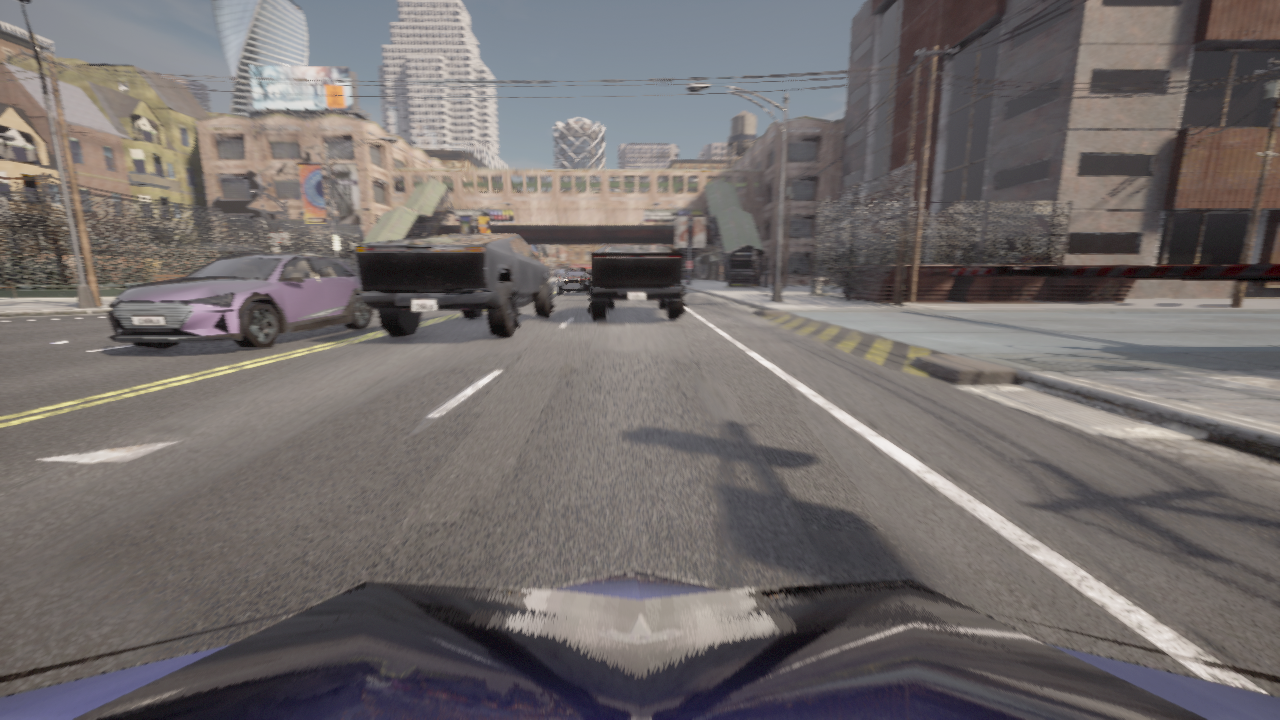cyclist: (0, 569, 1279, 719), (108, 252, 372, 348), (353, 234, 555, 337), (587, 243, 686, 320), (557, 268, 591, 294), (686, 274, 688, 282), (553, 274, 557, 277)
